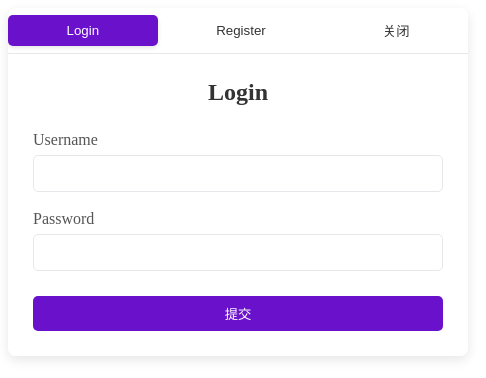
Test case: DataForm.vue › should render correctly and switch forms
Expected: the heading "Login" is shown, [208,79,268,105]
Click the button with class "su-form-panel__button--nav" showing "Register". click: (241, 30)
box: [158,15,324,46]
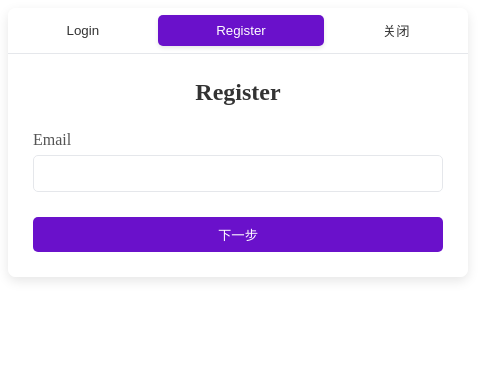
Expected: the heading "Register" is shown, [195,79,281,105]
